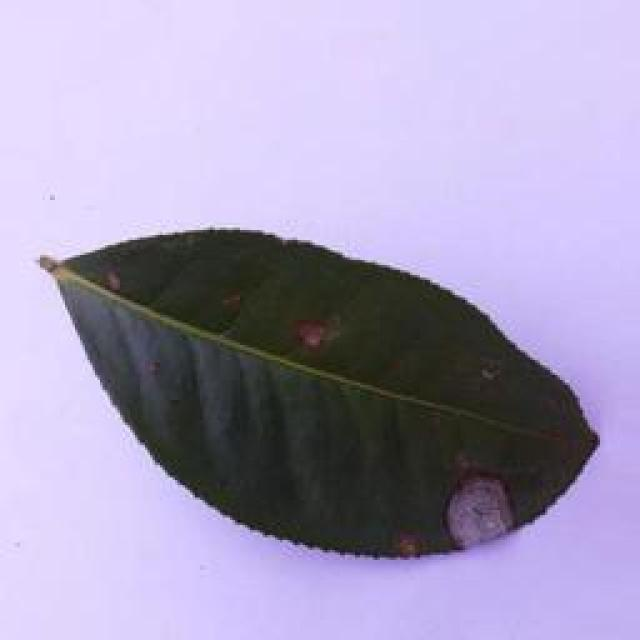Gray Blight: (33, 224, 606, 559)
